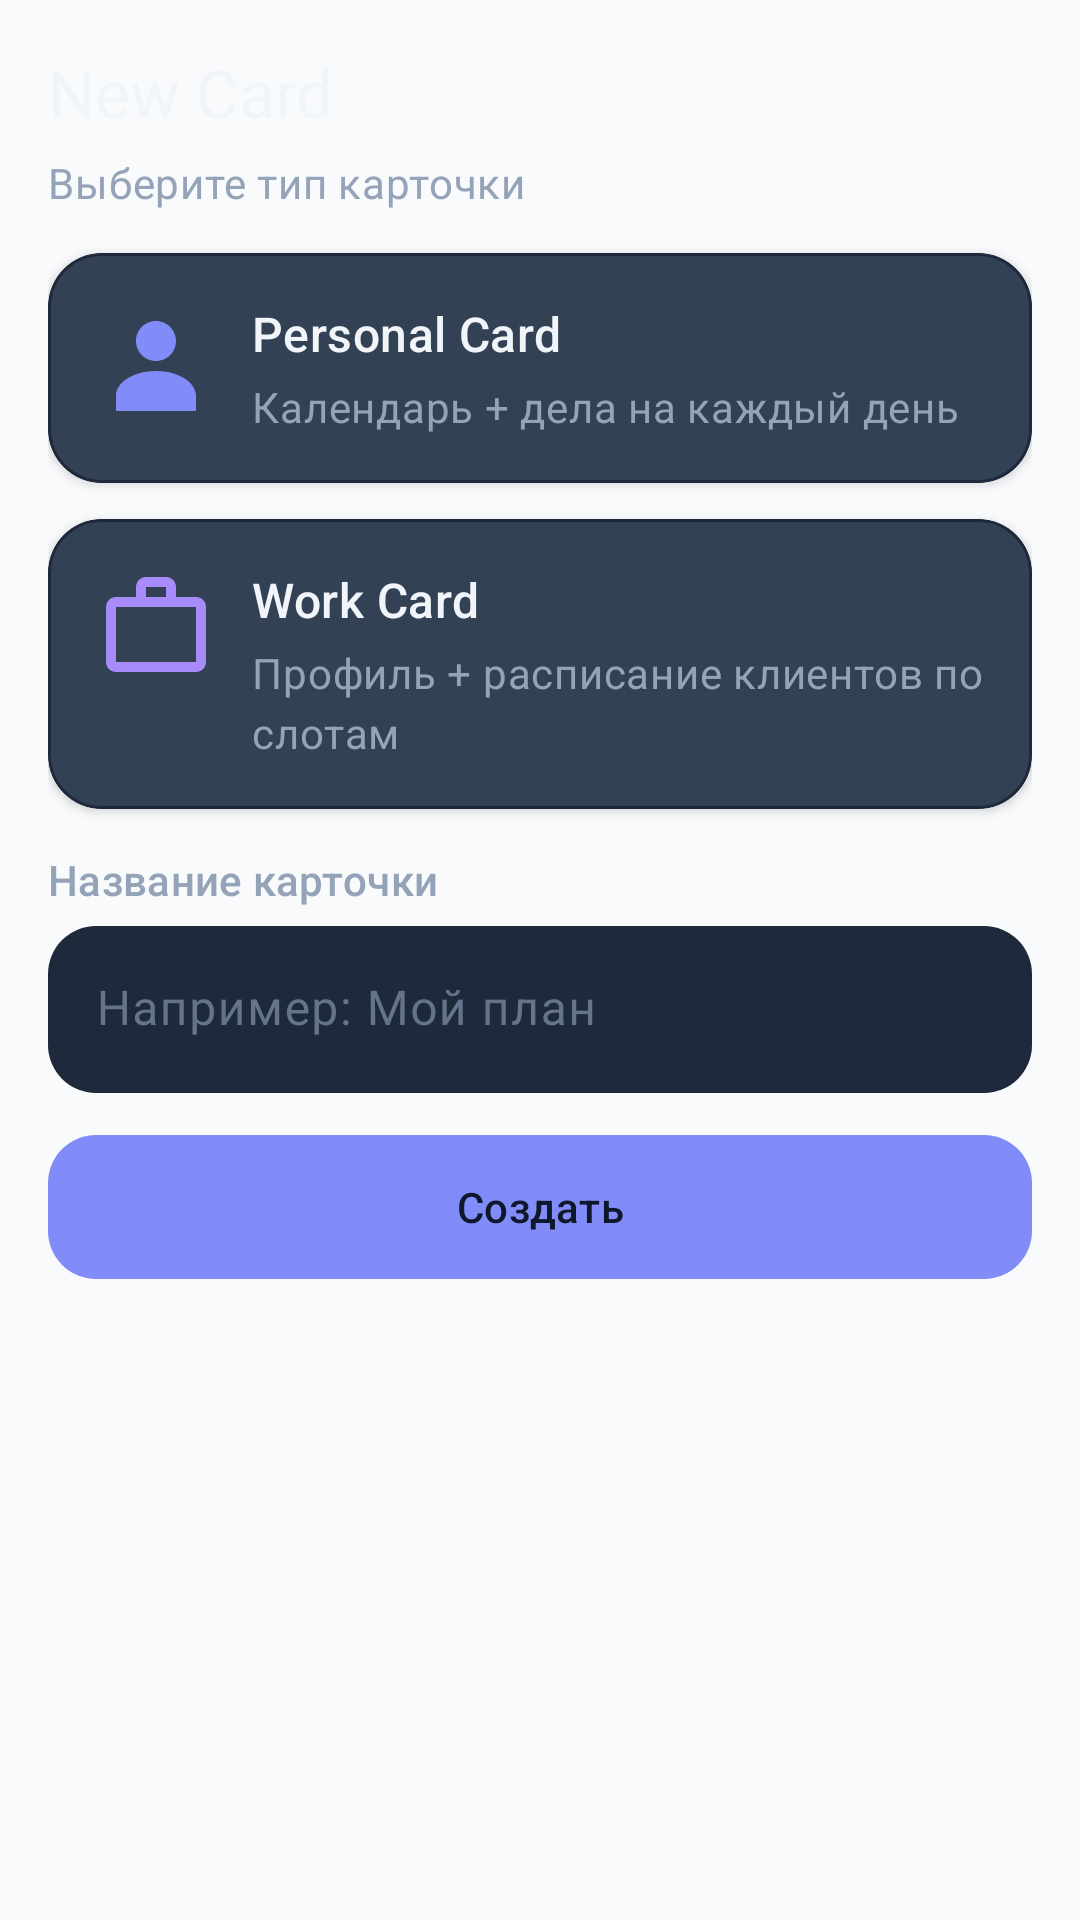

Icons on this 1080 × 1920 Android screen, each with its box as box=[x1, y1, x2, y2]:
briefcase: box=[106, 577, 206, 672]
